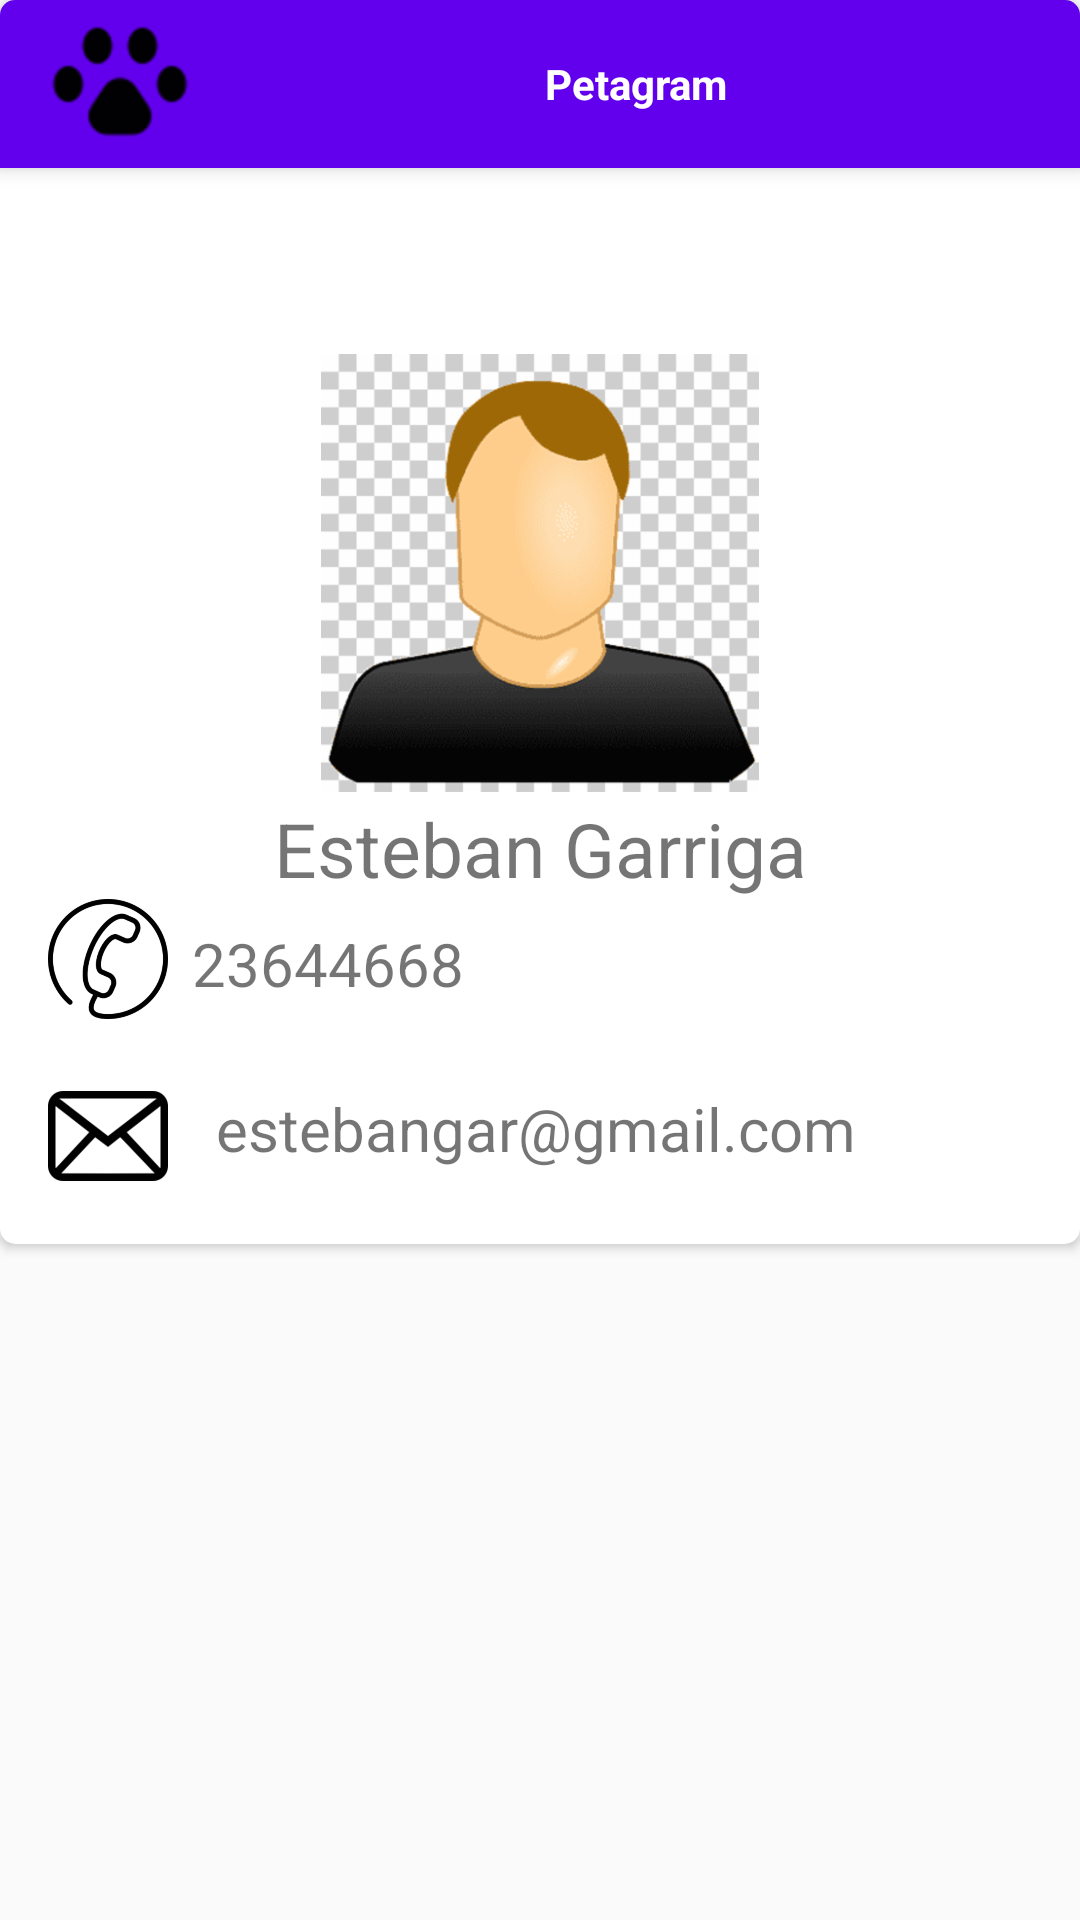

Icon bounding boxes for this 1080 x 1920 phone screenshot, format (x1, y1, x2, y2):
phone: (48, 899, 168, 1019)
